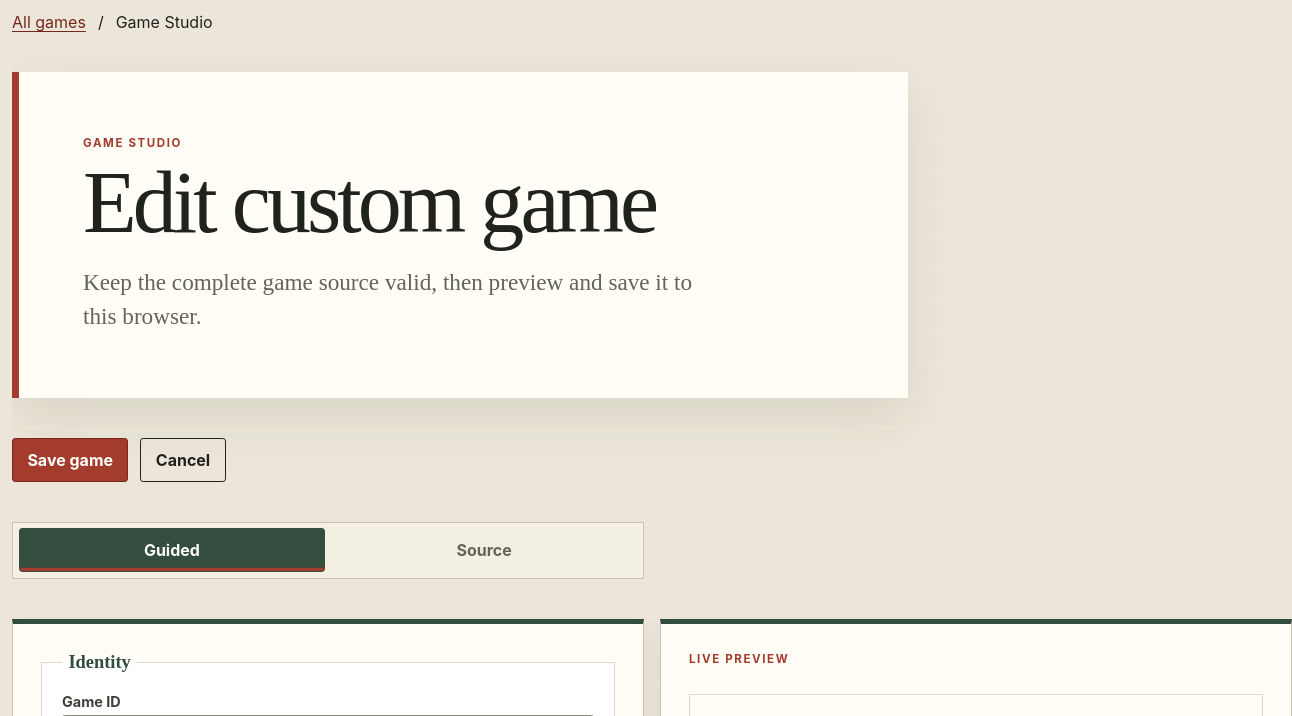
Game Studio › blocks Studio save when custom-game storage enumeration failed
This screenshot has width=1292, height=716.
Step 1. Click the button "Save game" → (70, 460), box x1=12 y1=438 x2=128 y2=482
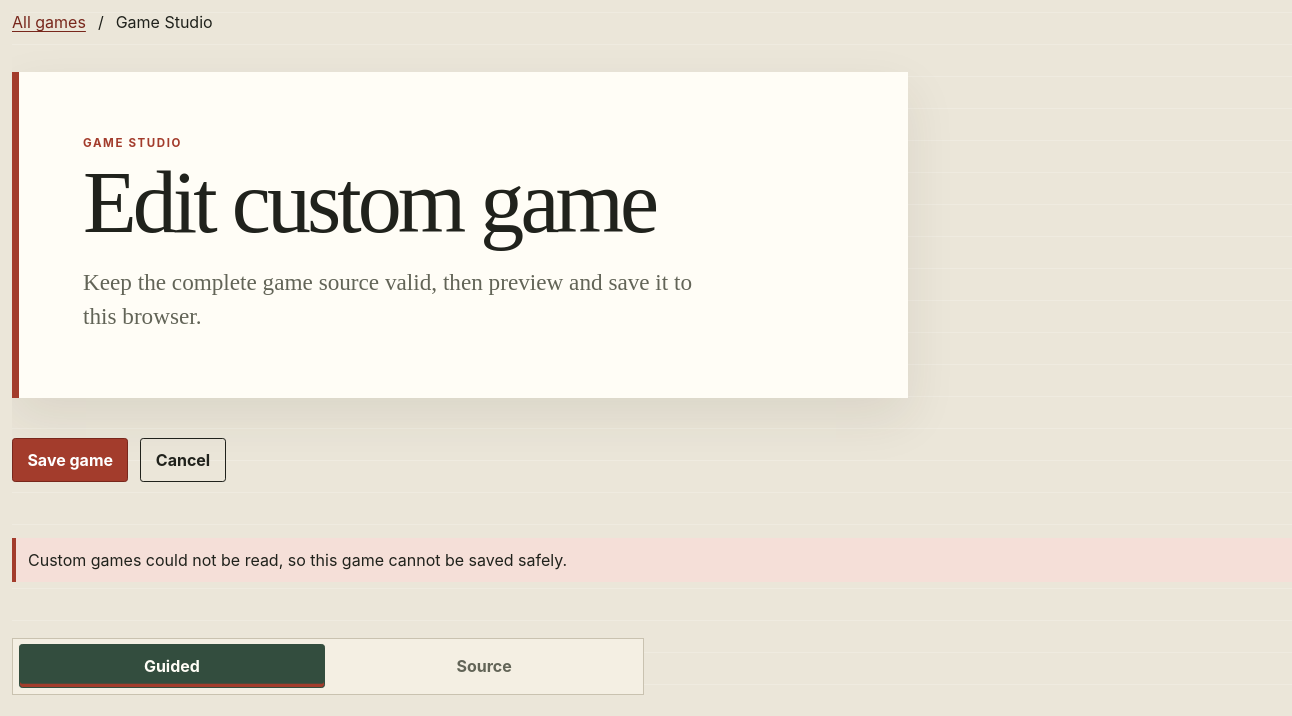
Expected: the message shows "Custom games could not be read", x1=28 y1=550 x2=567 y2=570
